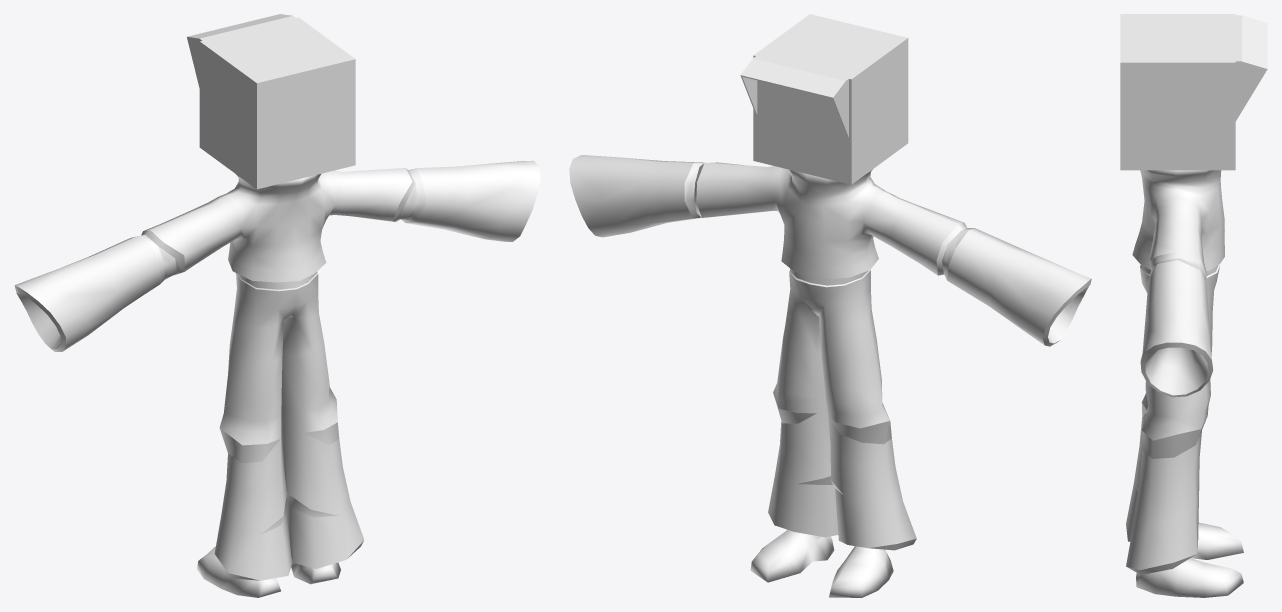
The model's file is cwo.fbx.
3 renders of one model, left to right at view 1: azimuth 30°, elevation 25°; view 2: azimuth 150°, elevation 25°; view 3: azimuth 270°, elevation 25°, orthographic.
Parts seen in each view (by area): view 1: Circle, Circle.002, Cube, Circle.003; view 2: Circle, Circle.002, Cube, Circle.003; view 3: Cube, Circle, Circle.002, Circle.003.
Boxes of the visible parts, box(x1,y1,x2,y2) form: Circle: box(14, 160, 540, 351); Circle.002: box(214, 271, 364, 580); Cube: box(187, 14, 355, 189); Circle.003: box(197, 546, 340, 597); Circle: box(569, 155, 1091, 346); Circle.002: box(768, 268, 916, 550); Cube: box(740, 14, 908, 184); Circle.003: box(750, 529, 893, 597); Cube: box(1120, 14, 1267, 170); Circle: box(1132, 170, 1224, 397); Circle.002: box(1126, 264, 1219, 574); Circle.003: box(1136, 522, 1243, 597).
Bounding box in the file's own units: 3418 × 3319 × 836.
